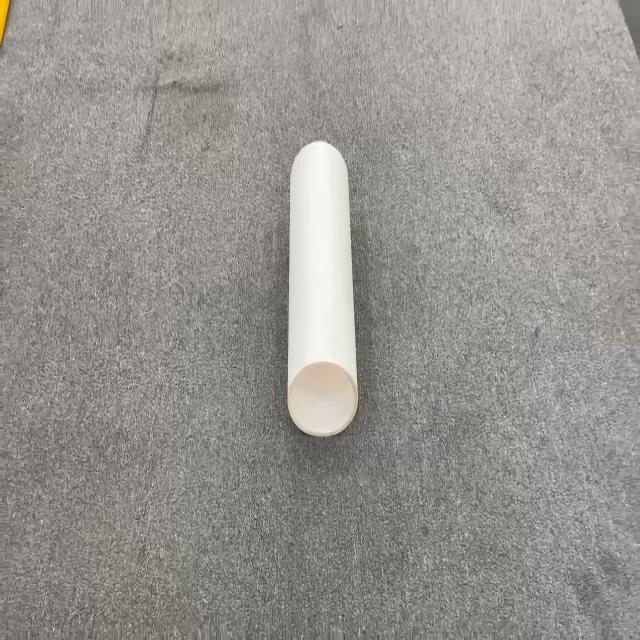coral: (285, 139, 359, 437)
